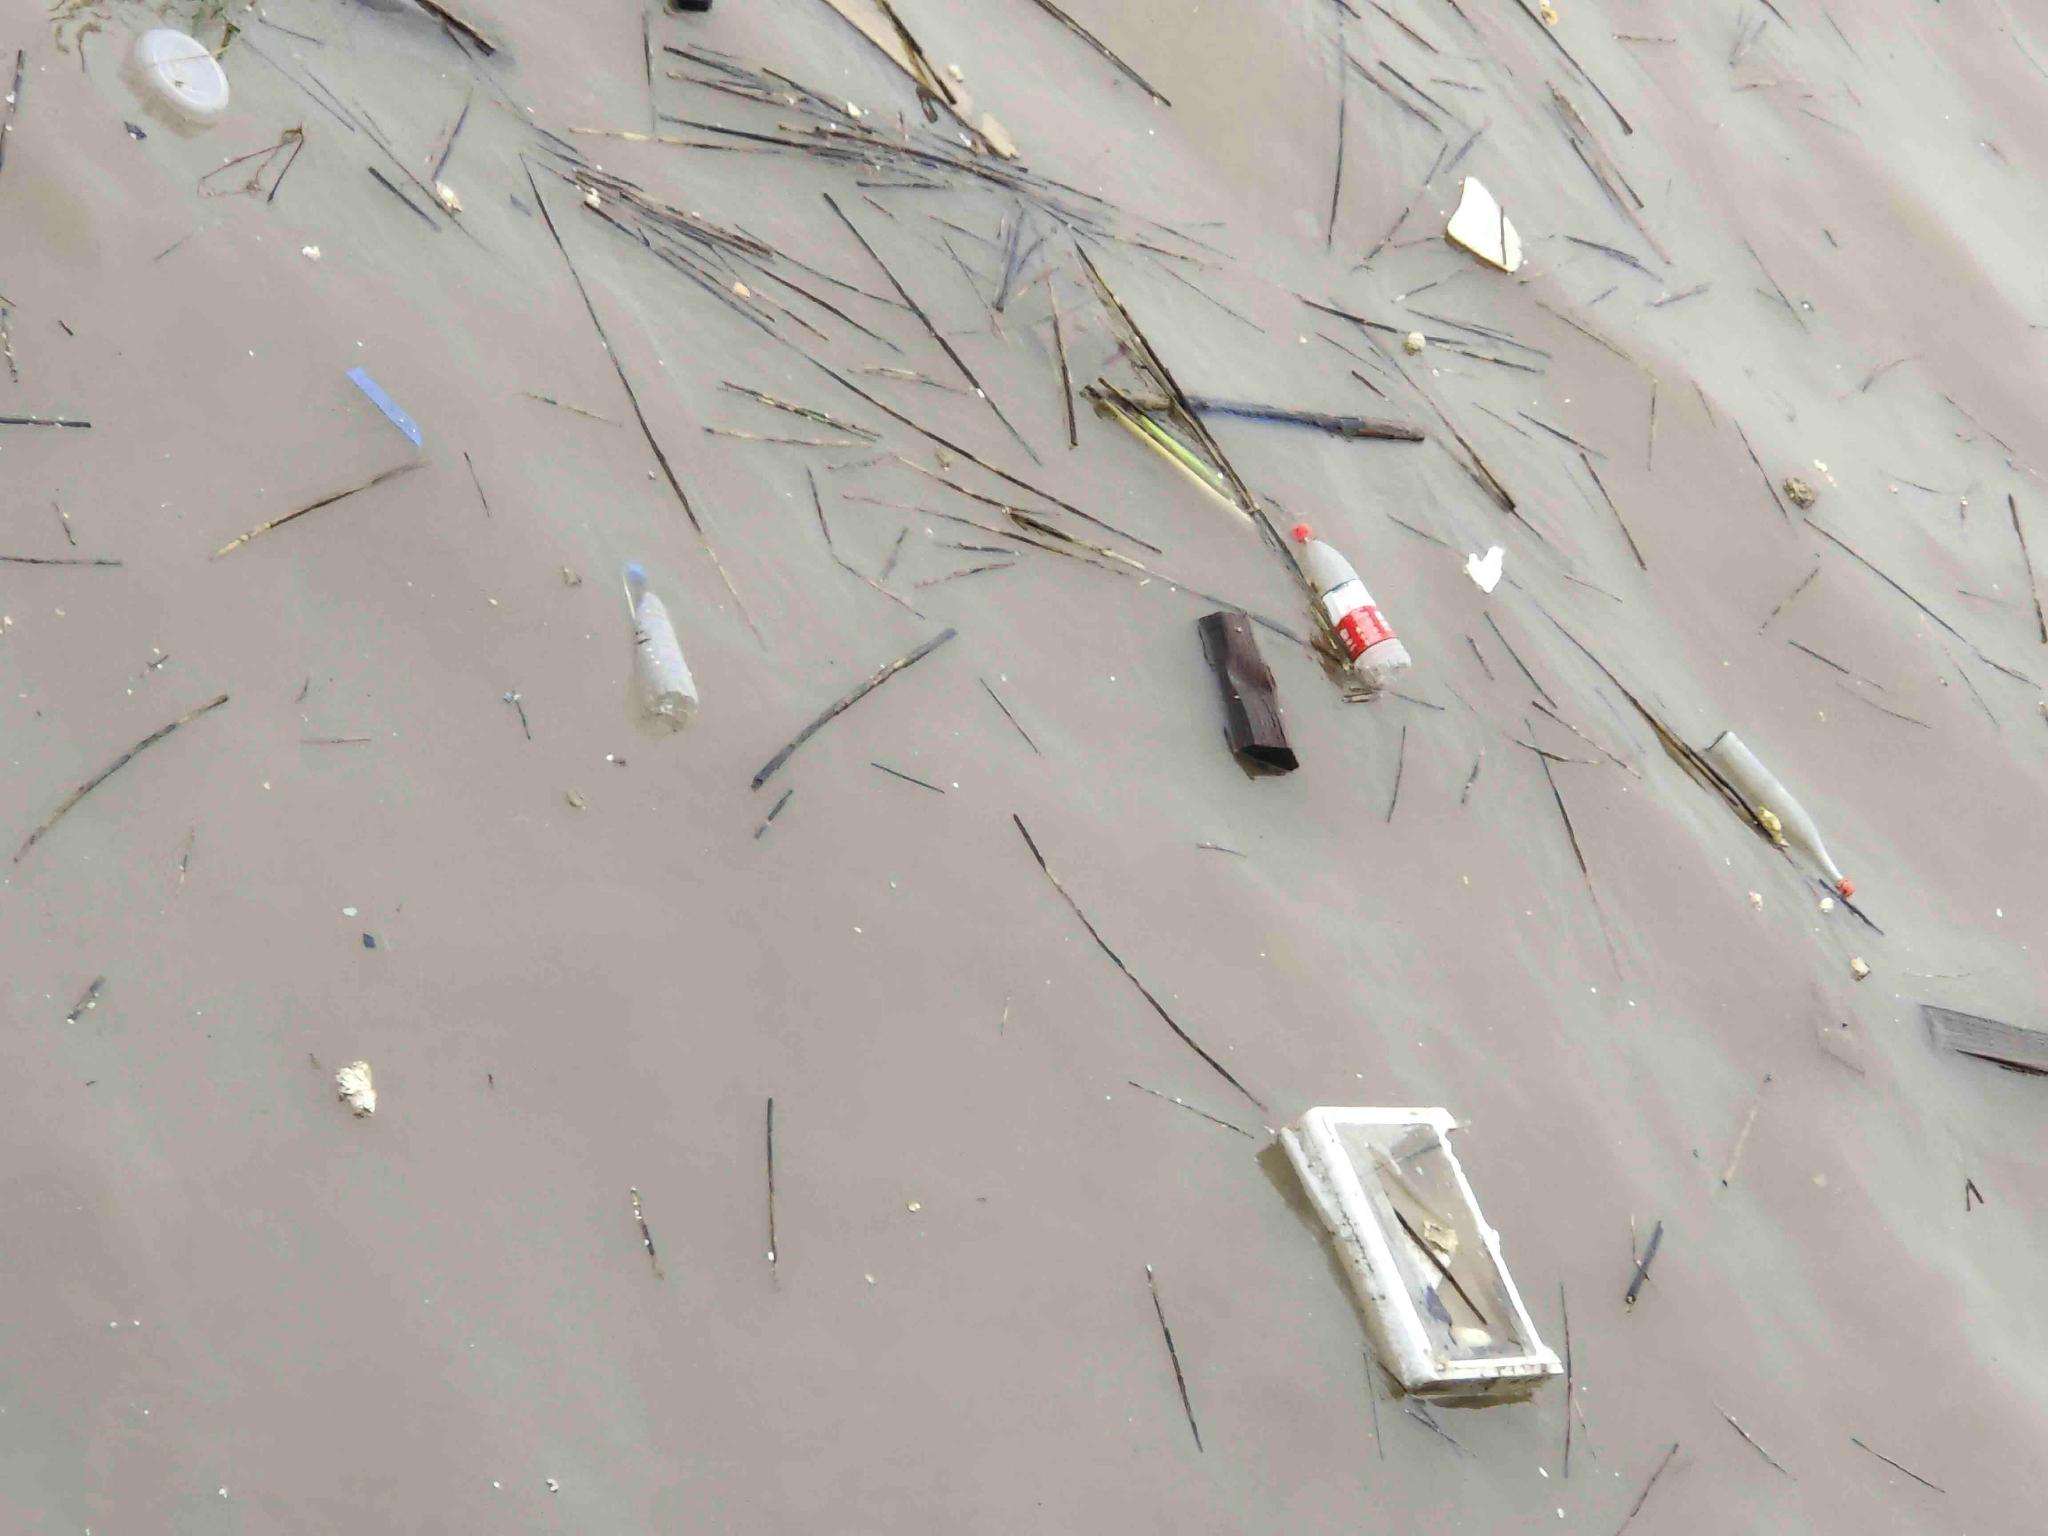Plastic: (1716, 729, 1853, 904), (1285, 524, 1413, 694)
Trash: (1295, 1102, 1559, 1389), (124, 24, 231, 129)
